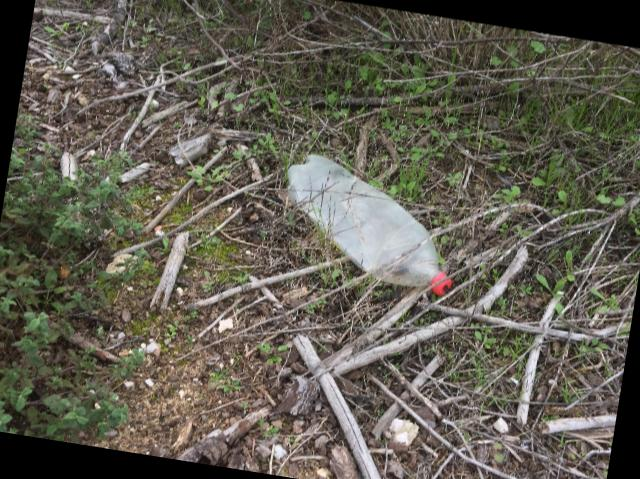plastic: (286, 154, 451, 295)
